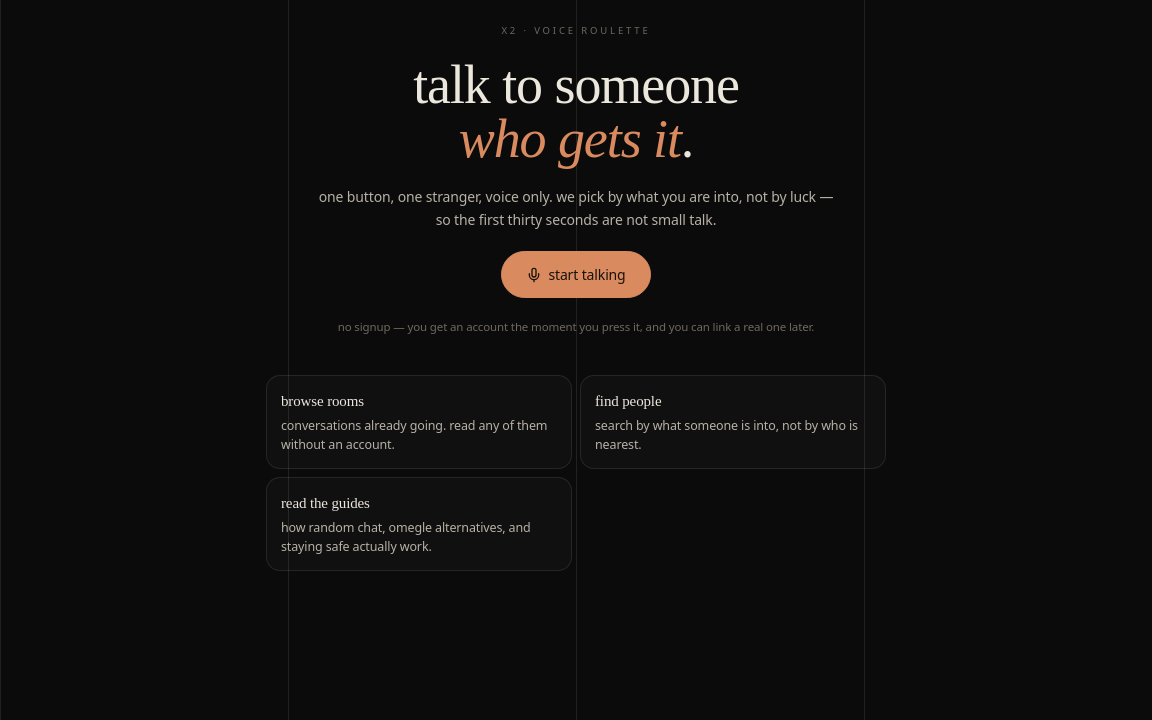
/ (voice match home) › says the matching service failed instead of hanging on the spinner
What coordinates should you click on to do the following:
click the button "start talking"
I would click on:
 (576, 274)
Its box is x1=501 y1=251 x2=651 y2=298.
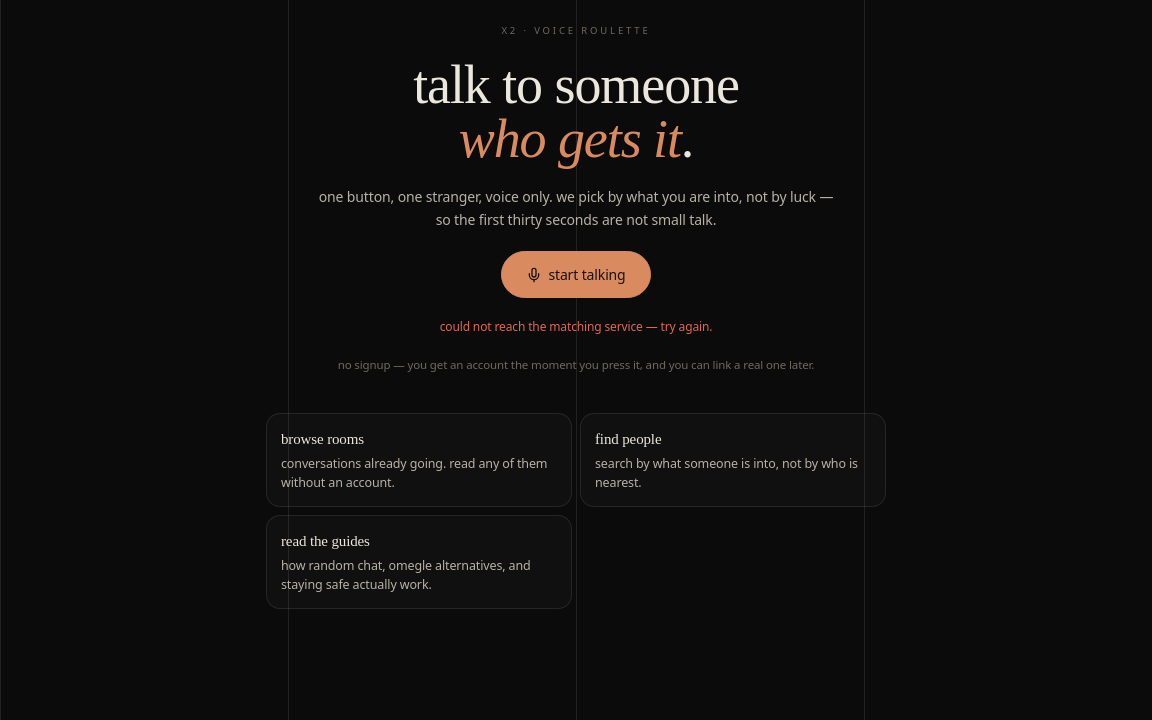
Expected: the text "could not reach the matching service — try again." is shown, x1=440 y1=318 x2=712 y2=336
